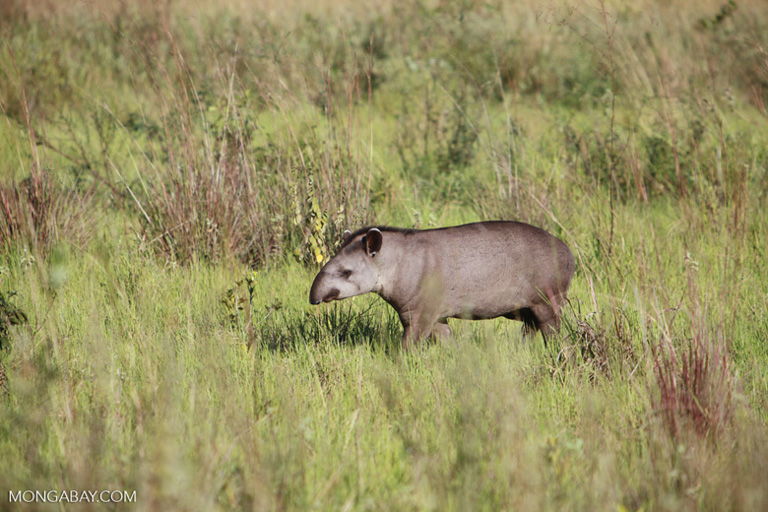Anta: (303, 210, 583, 347)
